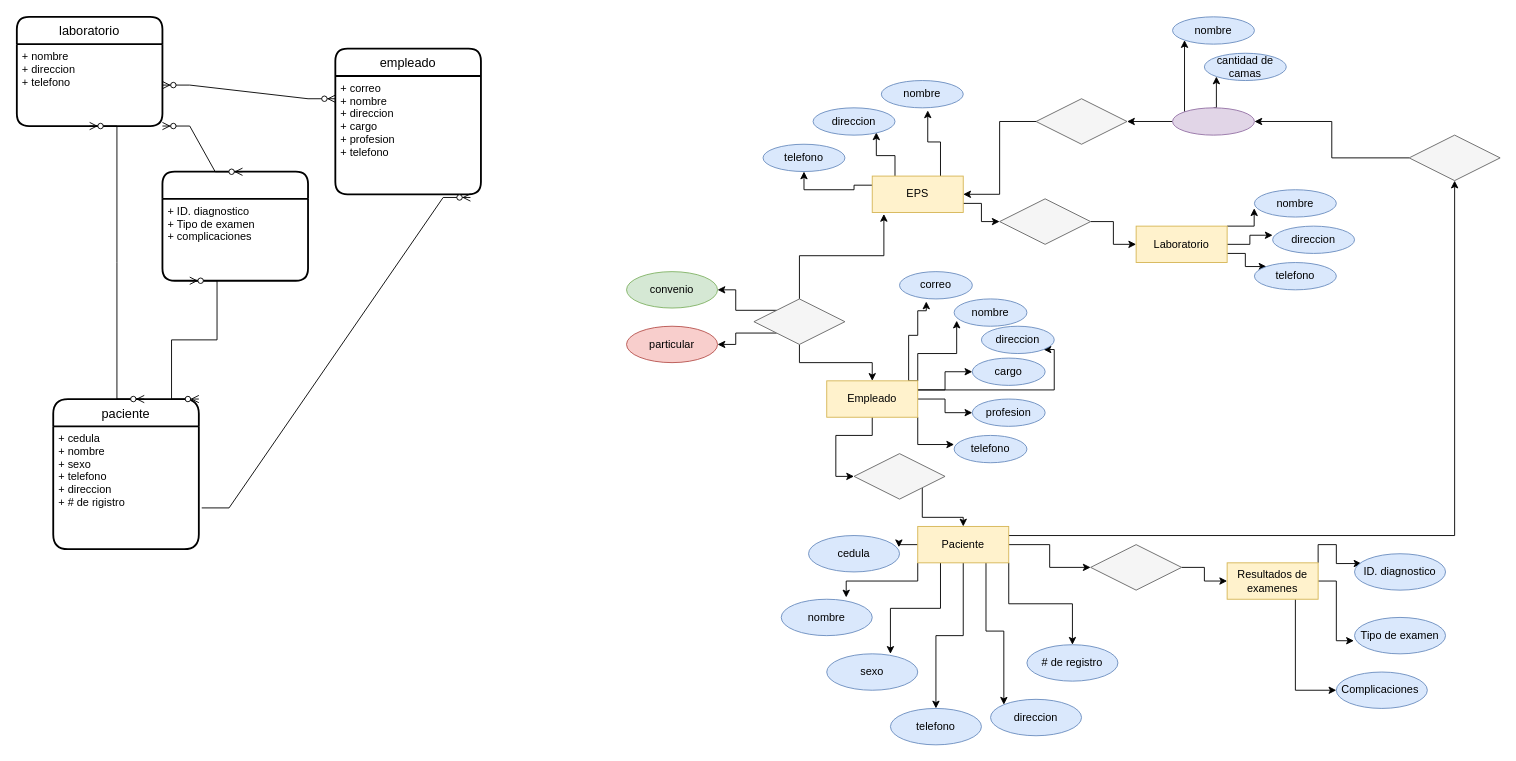
Some shapes in this 1516 by 761 pixel diagram are drawn without their labels. The shapes that lost their labels are listed below. From the top down, each one's box as (x1, y1, x2, y2) in pixels, then its label:
(1035, 98, 1127, 144): tiene
(1172, 107, 1254, 135): salas
(1408, 134, 1500, 181): internado
(161, 170, 308, 281): resultados del examen
(999, 198, 1091, 244): trabaja
(753, 298, 845, 344): contrata
(853, 453, 945, 499): atendido por
(1090, 544, 1182, 590): Adquiere
